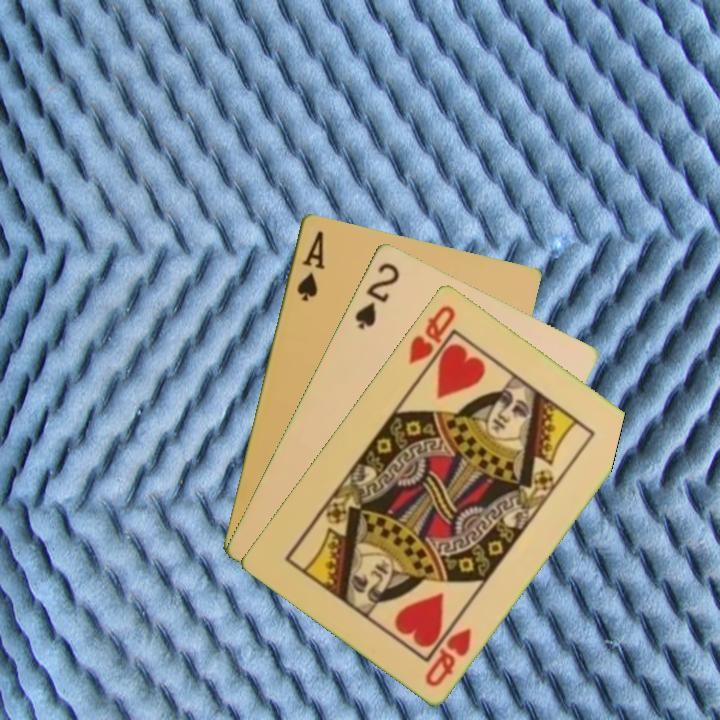2s: (351, 258, 402, 332)
As: (293, 227, 327, 304)
Qh: (404, 301, 459, 377), (421, 623, 475, 689)
